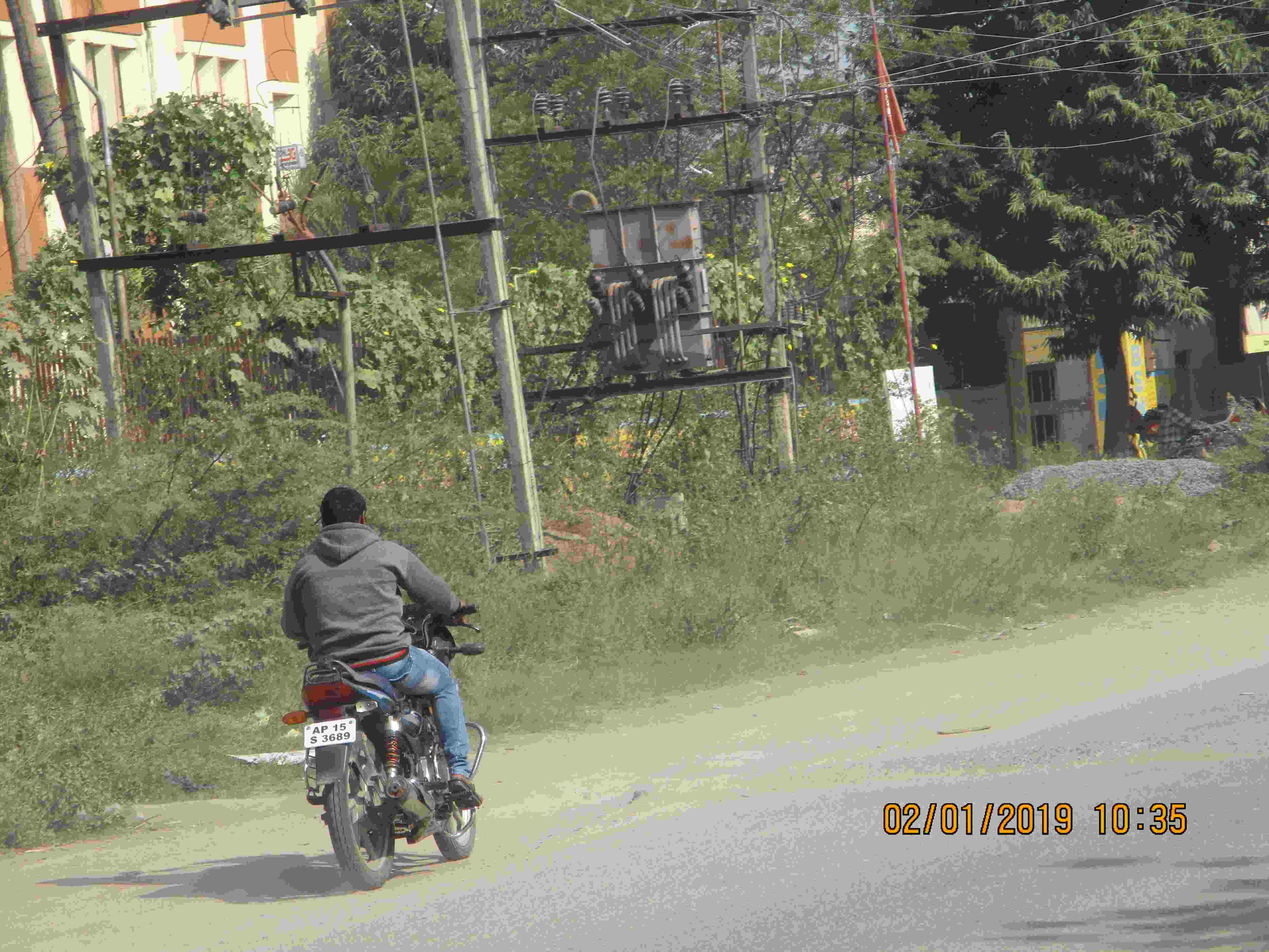plate: (300, 718, 358, 751)
